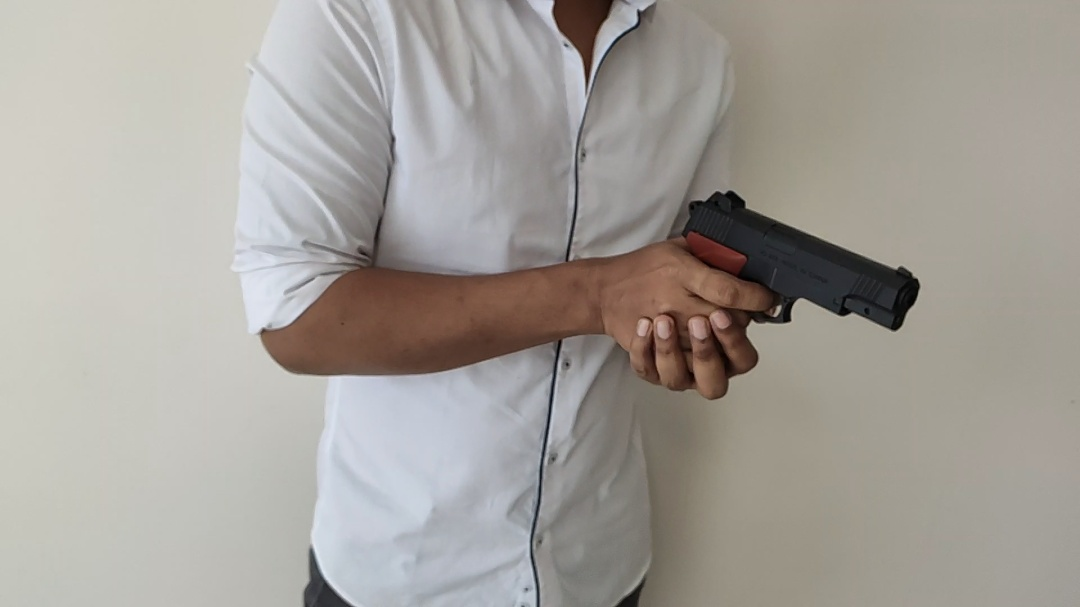gun: (369, 135, 762, 480)
